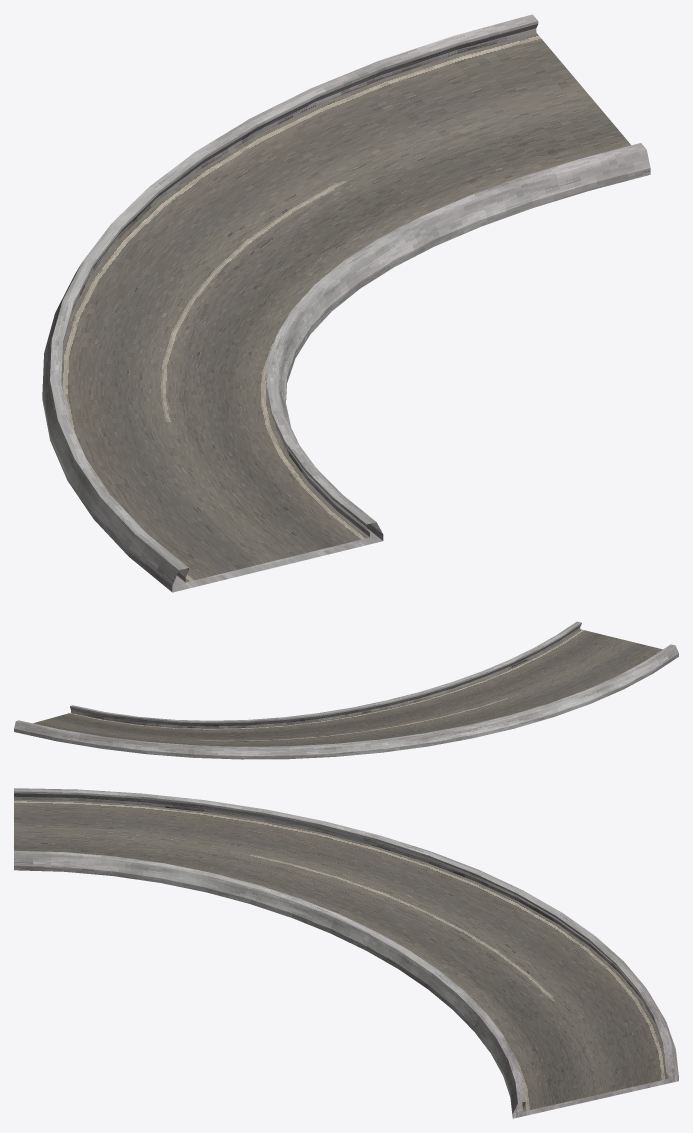
File: turn-right4x4.glb
3 views of the same model, one above another, from view 1: azimuth 30°, elevation 25°; view 2: azimuth 150°, elevation 25°; view 3: azimuth 270°, elevation 25° (orthographic). The views are drawn at different scales.
Parts seen in each view (by area): view 1: road-Turn-Flat-HalfBankedRight-Down1-Right-Size4; view 2: road-Turn-Flat-HalfBankedRight-Down1-Right-Size4; view 3: road-Turn-Flat-HalfBankedRight-Down1-Right-Size4.
Part boxes in pixels (x1,y1,x2,y2): road-Turn-Flat-HalfBankedRight-Down1-Right-Size4: (42, 14, 650, 592); road-Turn-Flat-HalfBankedRight-Down1-Right-Size4: (14, 621, 678, 759); road-Turn-Flat-HalfBankedRight-Down1-Right-Size4: (14, 788, 678, 1118).
Bounding box in the file's own units: 4 × 0.3438 × 4.
Materials: 2 (2 with a texture image).
